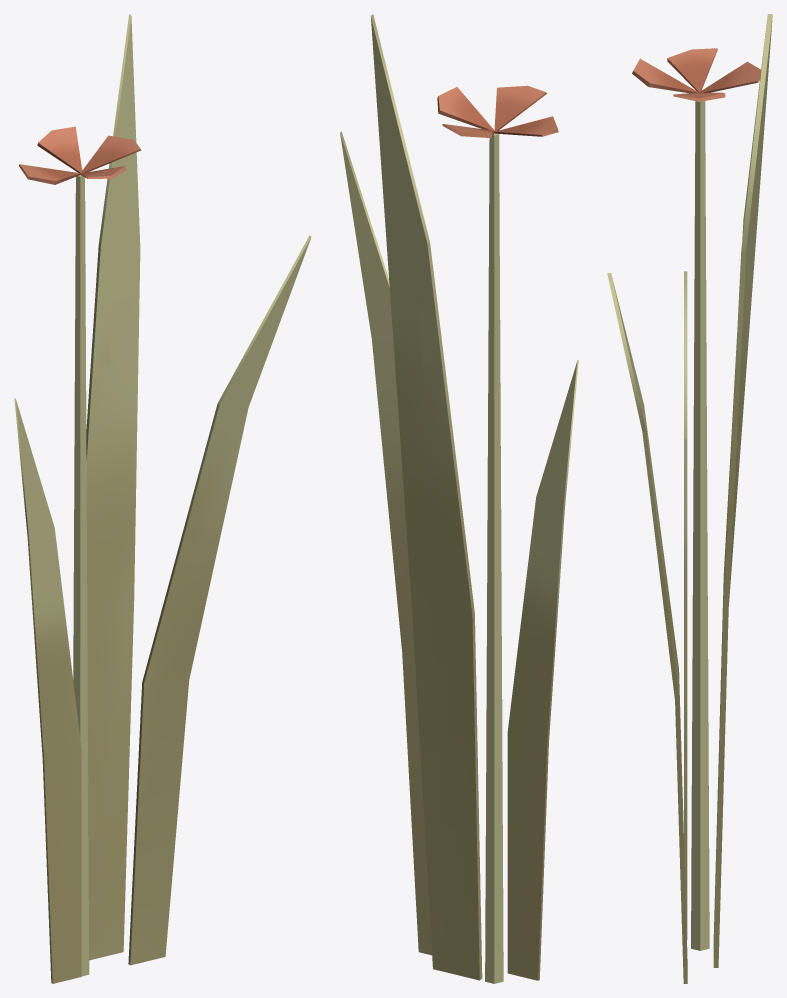
The model's file is GrassPatch_Wiese_Wüste.fbx.
The picture shows the model from 3 angles, left to right: view 1: azimuth 30°, elevation 25°; view 2: azimuth 150°, elevation 25°; view 3: azimuth 270°, elevation 25°; orthographic projection. The views are drawn at different scales.
Parts seen in each view (by area): view 1: GrassPatchGeo; view 2: GrassPatchGeo; view 3: GrassPatchGeo.
Part boxes in pixels (bbox=[...]): GrassPatchGeo: bbox=[14, 14, 311, 983]; GrassPatchGeo: bbox=[340, 14, 578, 983]; GrassPatchGeo: bbox=[607, 14, 772, 983].
Size of the model in its own units: 111 by 373 by 57.35.
